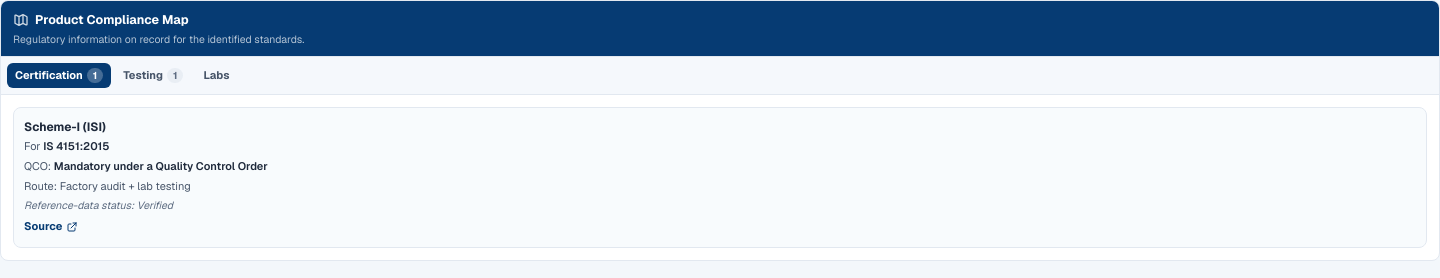
Test case: ProductComplianceMap › testing rows say they name parameters, not clauses
The image size is (1440, 278).
Click the tab "Testing 1": x=153, y=75 [115,63,191,88]
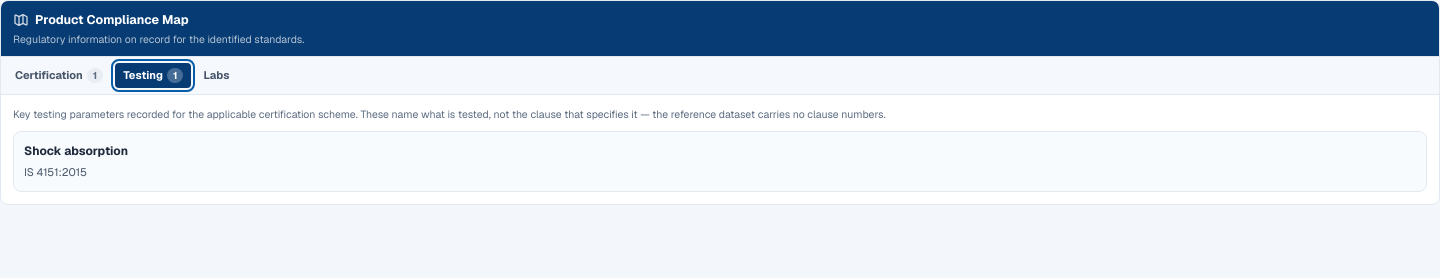
Check: the text "Shock absorption" is shown, box [24,143,128,159]
Check: the text "carries no clause numbers" is shown, box [13,107,886,121]
